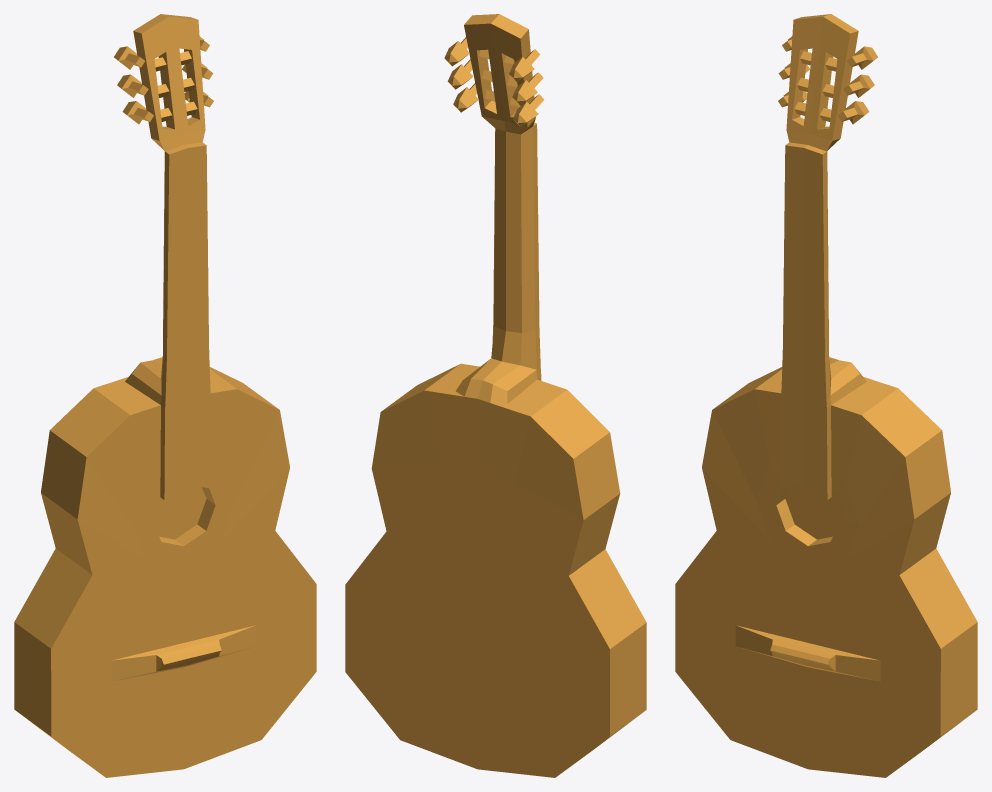
The model's file is guitar-acoustic.fbx.
The picture shows the model from 3 angles, left to right: view 1: azimuth 30°, elevation 25°; view 2: azimuth 150°, elevation 25°; view 3: azimuth 330°, elevation 25°; orthographic projection.
Parts seen in each view (by area): view 1: guitar-acoustic; view 2: guitar-acoustic; view 3: guitar-acoustic.
Part boxes in pixels (bbox=[...]): guitar-acoustic: bbox=[14, 14, 316, 777]; guitar-acoustic: bbox=[345, 14, 646, 777]; guitar-acoustic: bbox=[675, 14, 977, 777].
Size of the model in its own units: 0.3749 by 1 by 0.1131.
